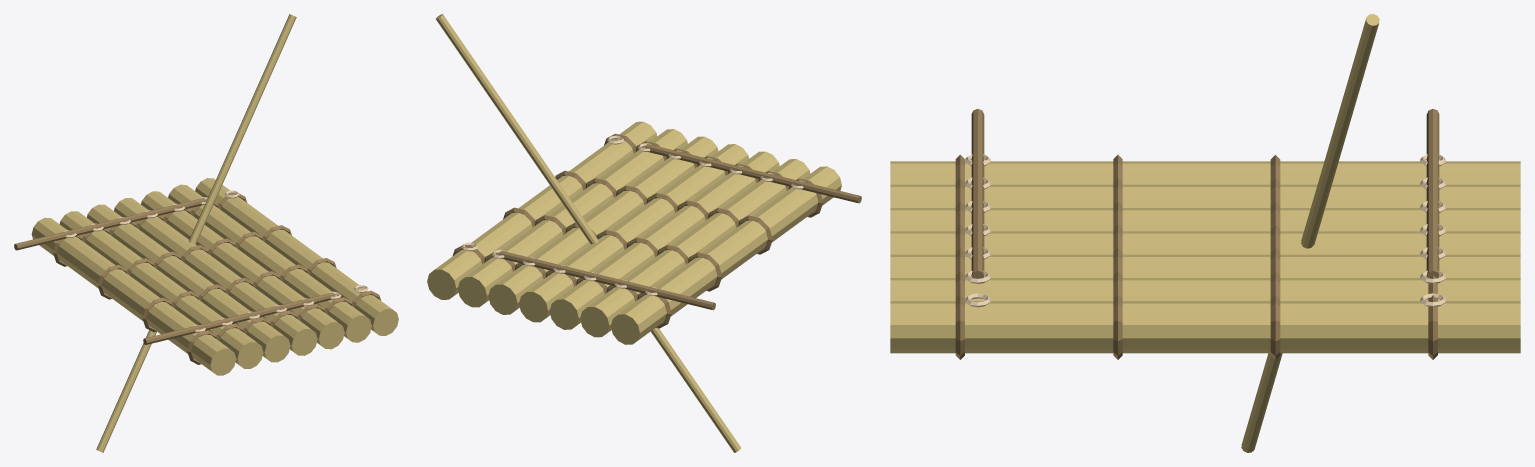
File: raft.glb
3 renders of one model, left to right at view 1: azimuth 30°, elevation 25°; view 2: azimuth 150°, elevation 25°; view 3: azimuth 270°, elevation 25°, orthographic. The views are drawn at different scales.
Visible parts, largest first — view 1: raft; view 2: raft; view 3: raft.
Boxes of the visible parts, x1,y1,x2,y2 form: raft: [14, 14, 398, 452]; raft: [427, 14, 861, 452]; raft: [890, 14, 1520, 452].
Size of the model in its own units: 1.53 by 1.99 by 1.8.
